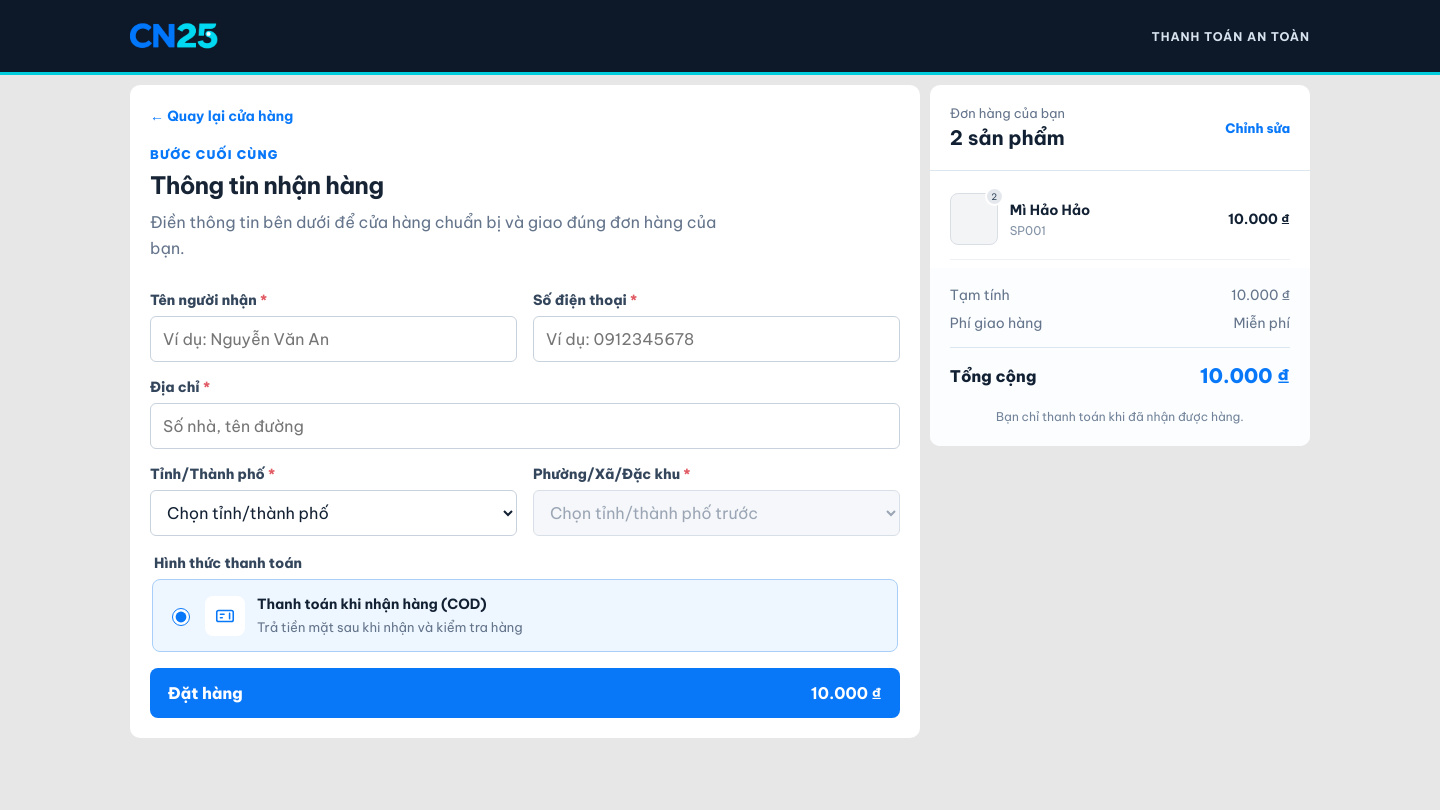
Test case: CheckoutLayout › creates a COD order, clears the cart and shows the order code
Check: the element with class "summary-thumb" reads "2", box [991,191,997,202]
Type "Nguyễn Văn An" into the field with id "customer-name". click: (333, 339)
box: [150,316,517,362]
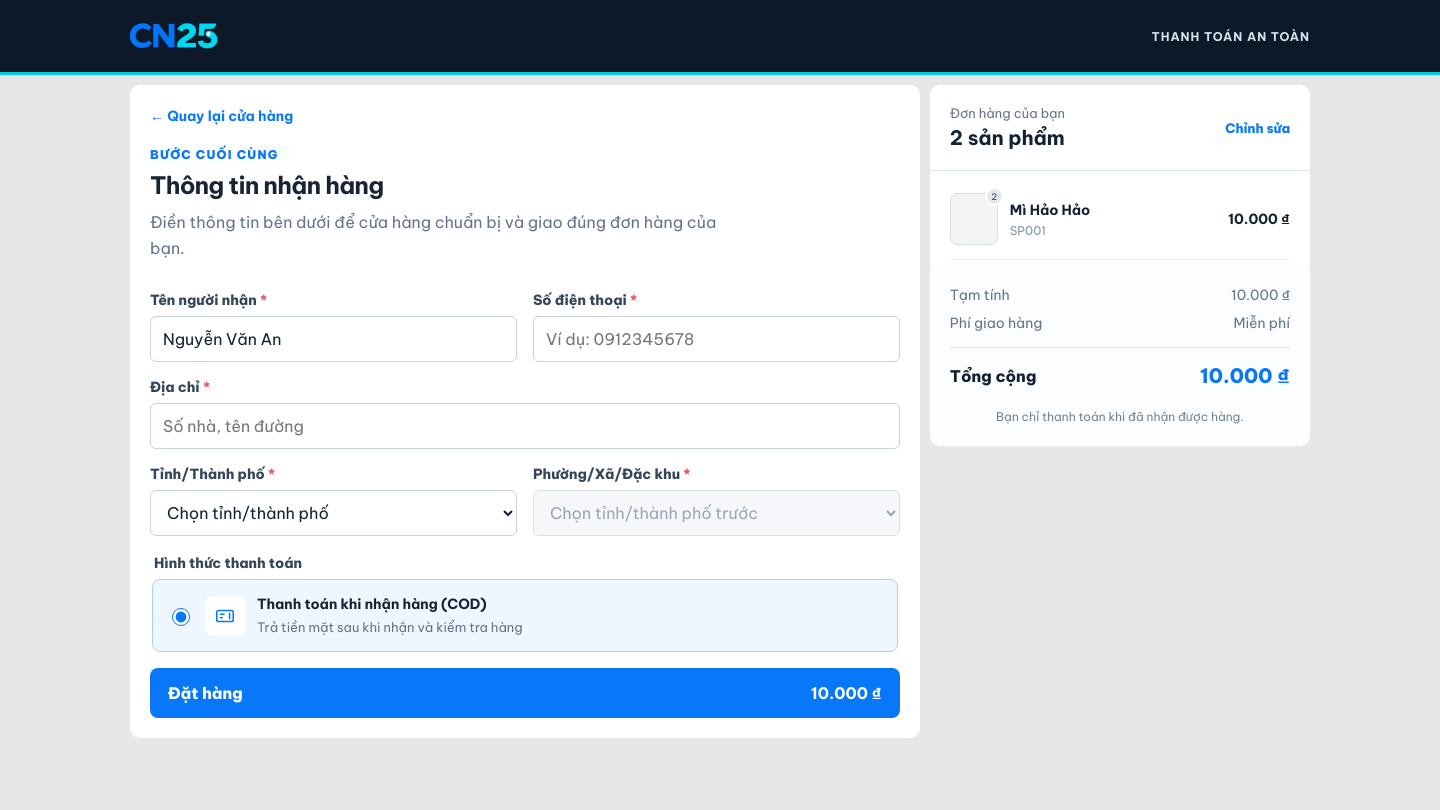
Type "0912 345 678" into the field with id "customer-phone". click: (716, 339)
box: [533,316,900,362]
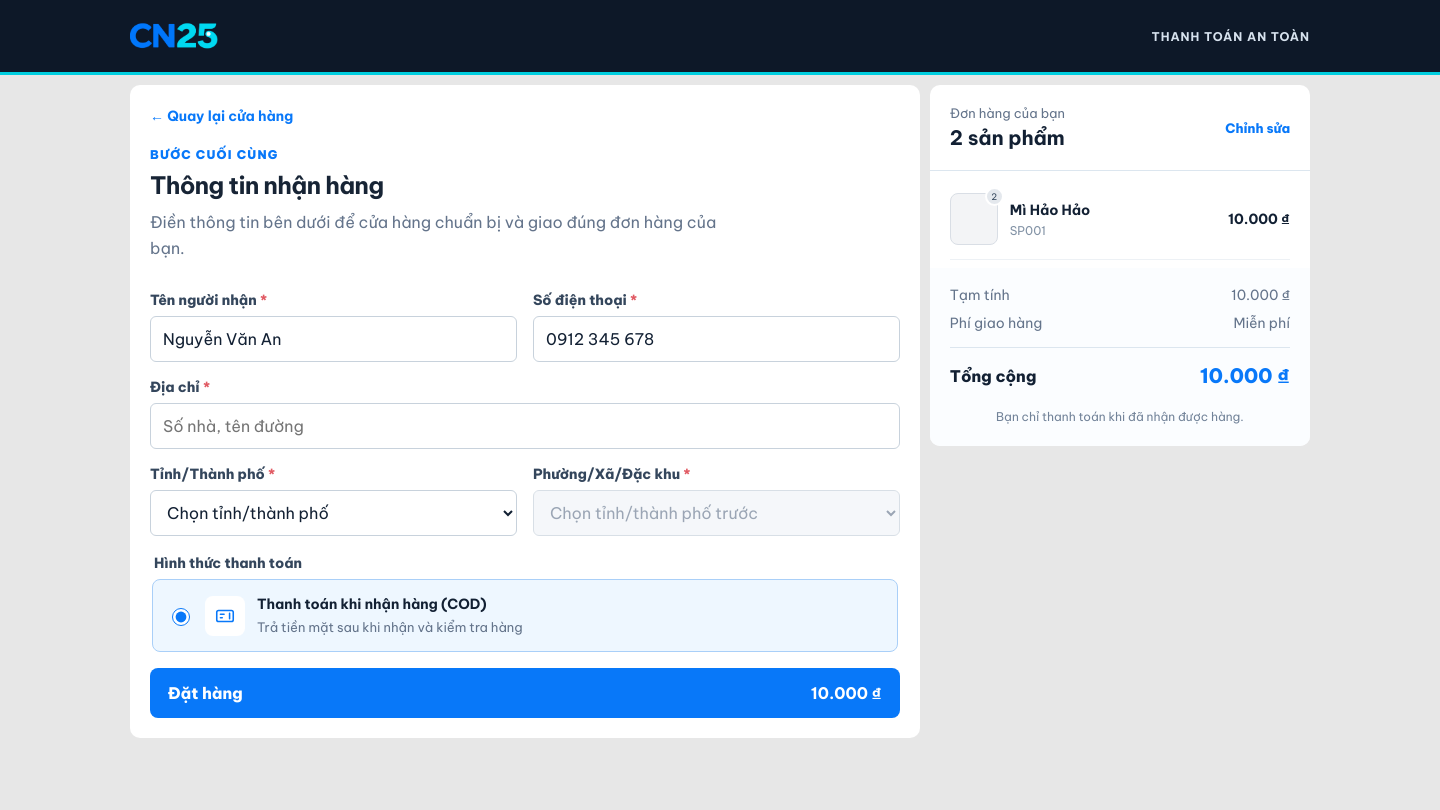
Type "  12   Lê Lợi  " into the field with id "street-address". click: (525, 426)
box: [150,403,900,449]
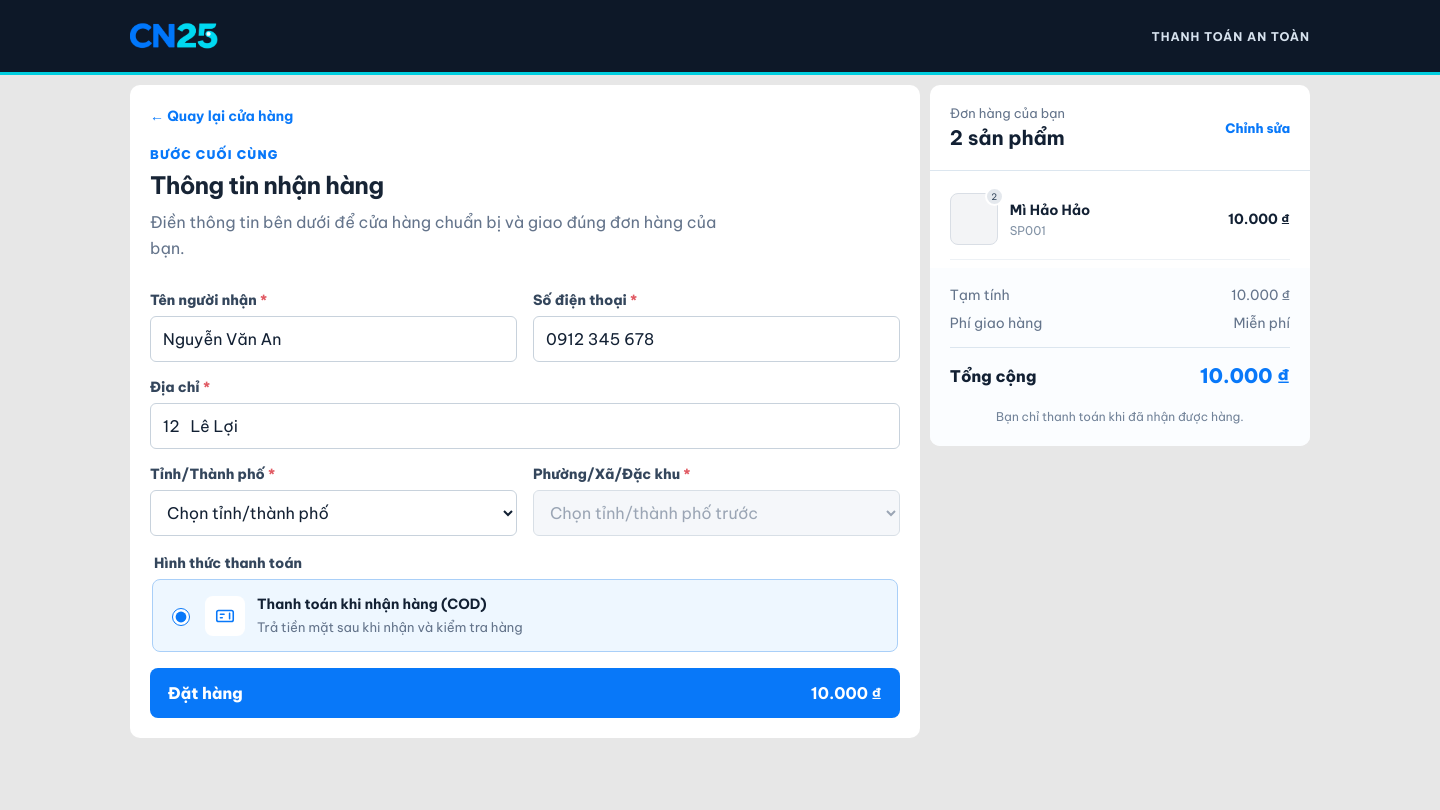
Select "Thành phố Hồ Chí Minh" in the dropdown labelled "Tỉnh/Thành phố *". click: (333, 513)
box: [150,490,517,536]
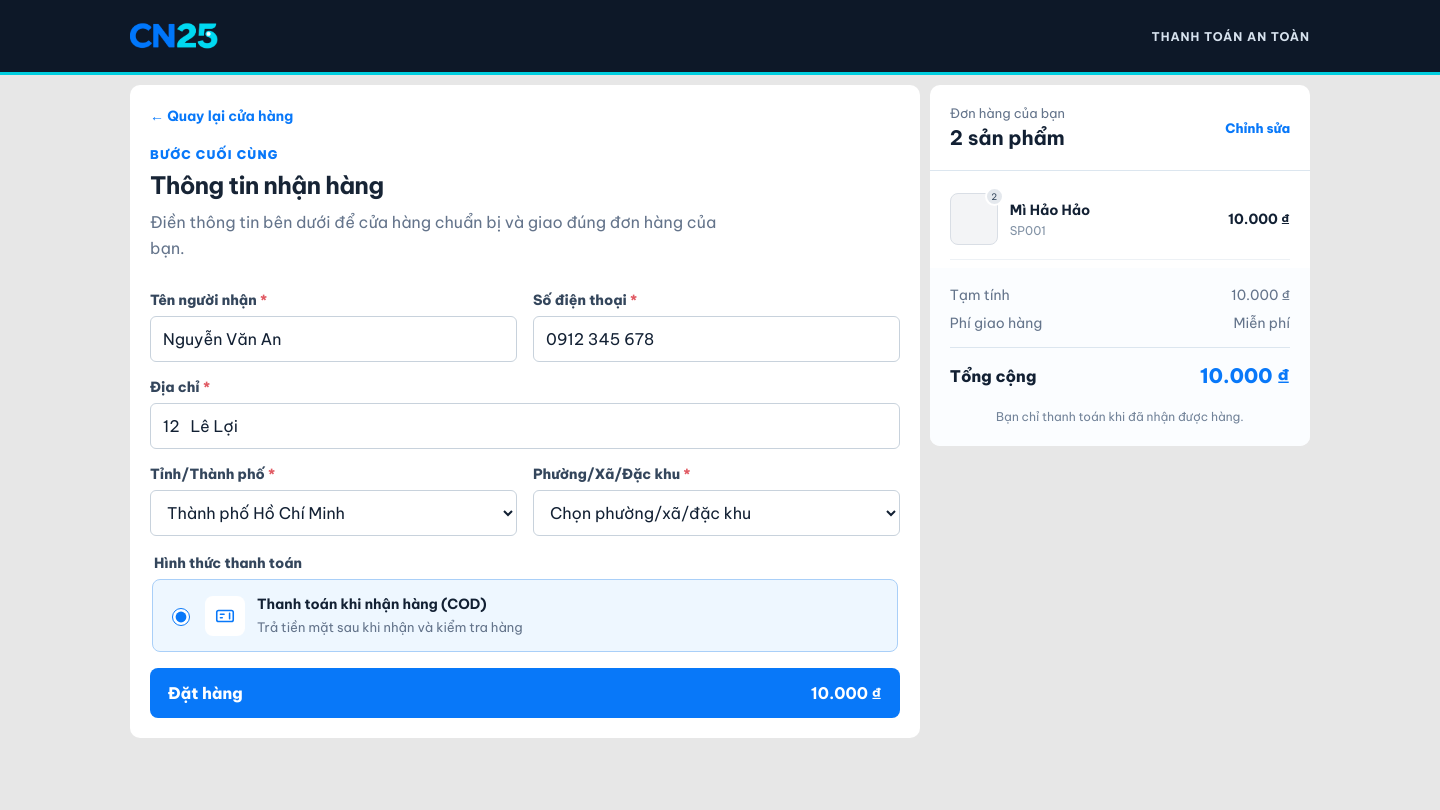
Select "Phường Bến Thành" in the dropdown with id "ward-city". click: (716, 513)
box: [533,490,900,536]
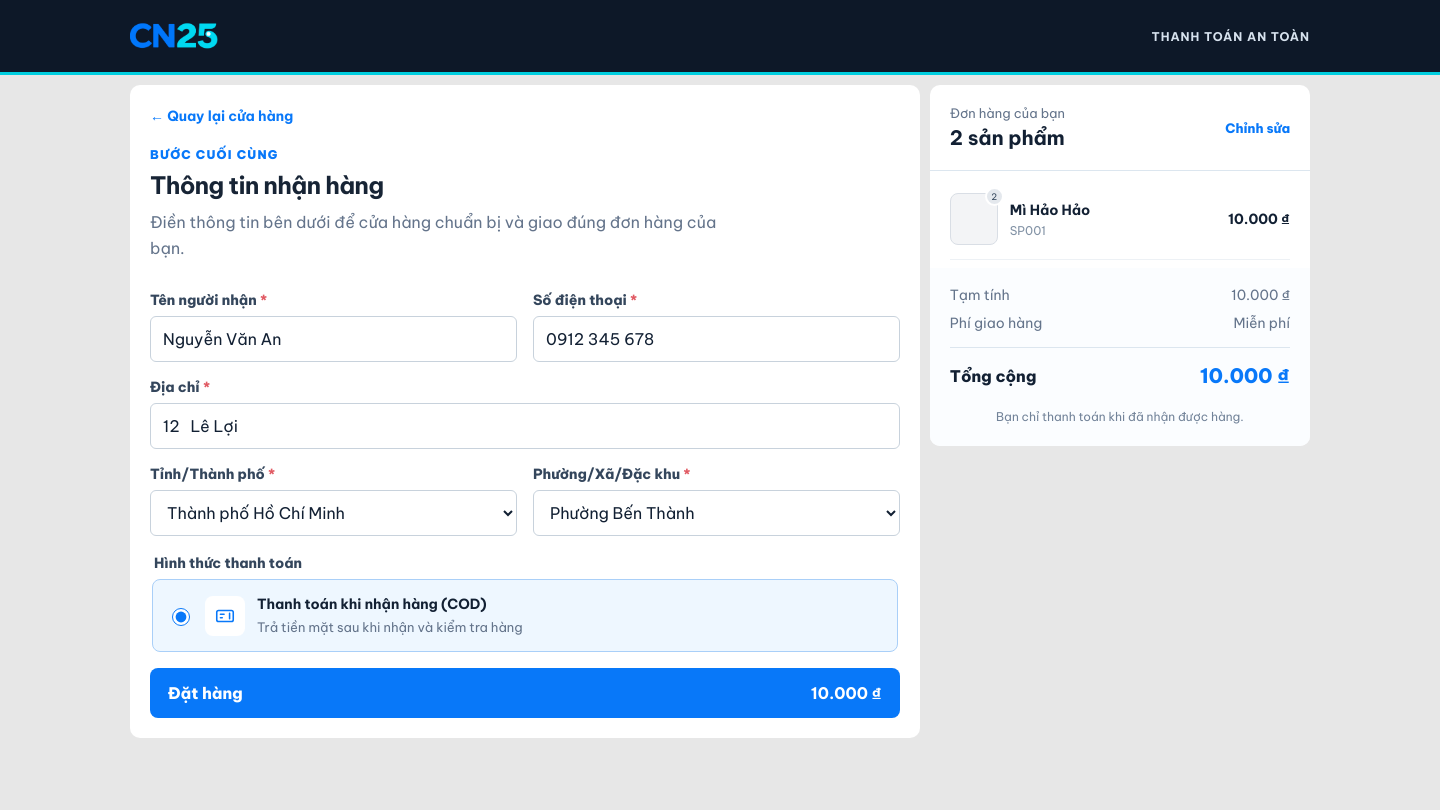
Submit the form, box [150,291,900,718]
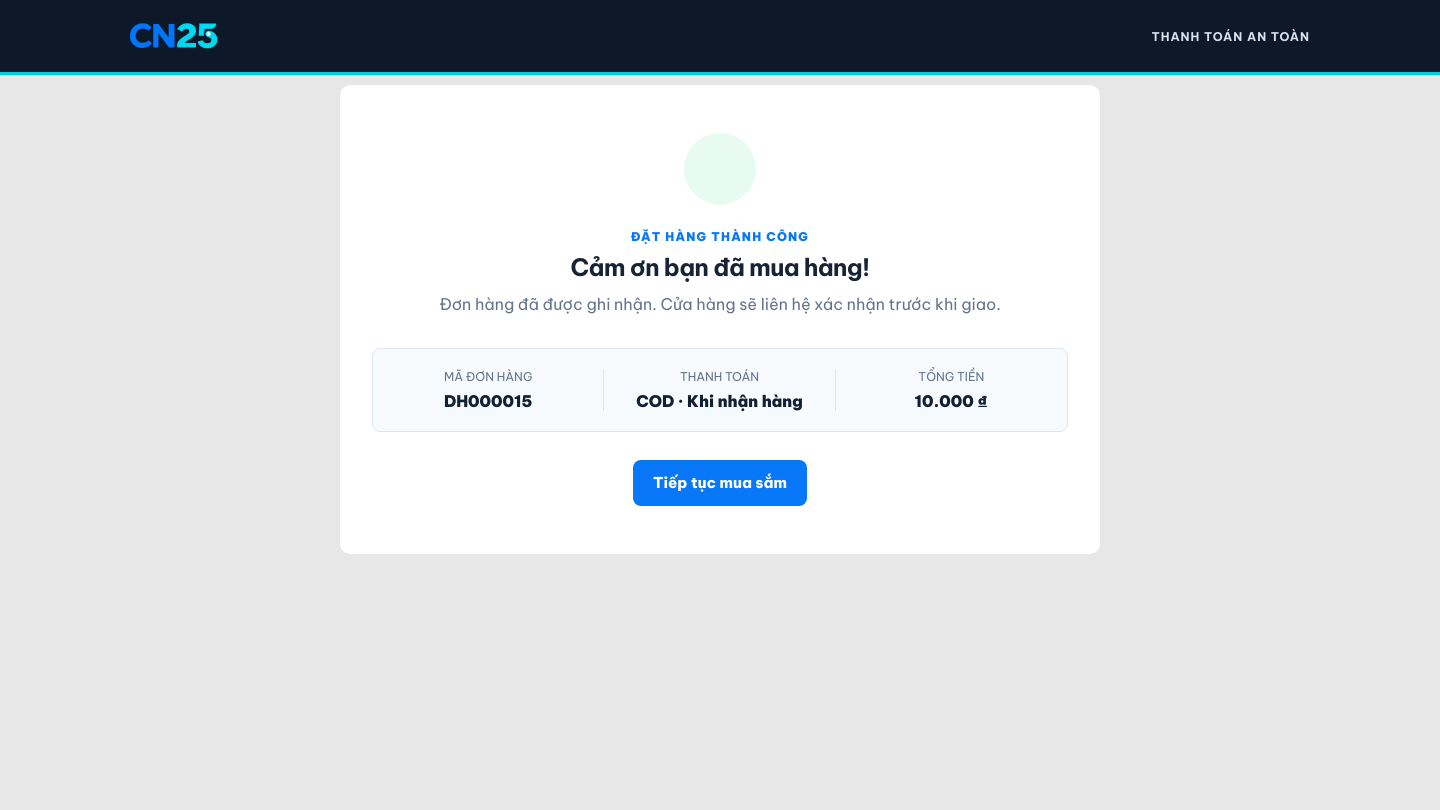
Check: the text "Đặt hàng thành công" is shown, box [631,229,809,244]
Check: the text "DH000015" is shown, box [444,391,532,411]
